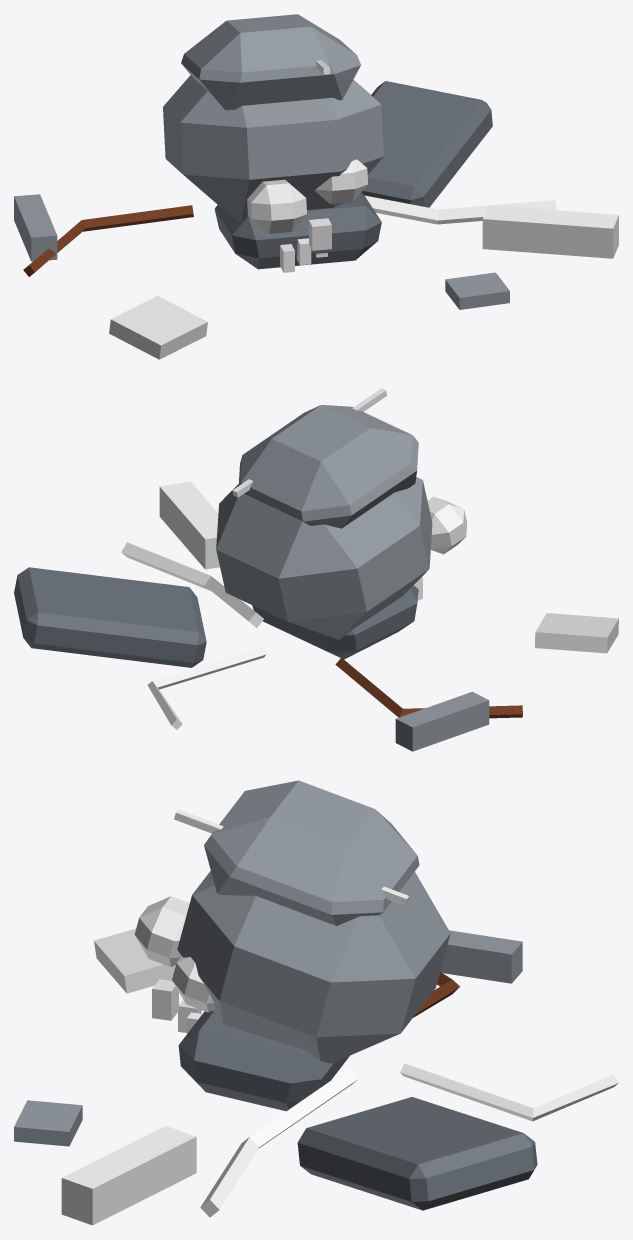
The model's file is Broken_Robot.fbx.
3 renders of one model, top to bottom at view 1: azimuth 30°, elevation 25°; view 2: azimuth 150°, elevation 25°; view 3: azimuth 270°, elevation 25°, orthographic. The views are drawn at different scales.
Parts seen in each view (by area): view 1: Broken_Robot; view 2: Broken_Robot; view 3: Broken_Robot.
Part boxes in pixels (x1,y1,x2,y2): Broken_Robot: (14, 14, 618, 359); Broken_Robot: (14, 388, 618, 751); Broken_Robot: (14, 780, 618, 1225).
Bounding box in the file's own units: 1.69 × 0.7808 × 1.5.
